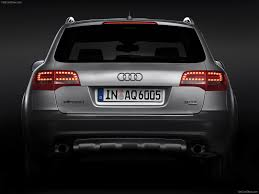car: (17, 12, 246, 182)
